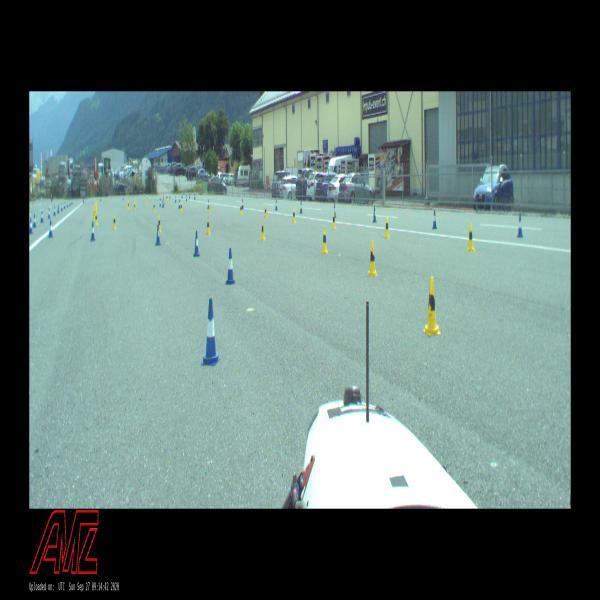blue_cone: (201, 299, 220, 366), (226, 248, 234, 284), (194, 231, 200, 256), (517, 215, 523, 236), (156, 226, 161, 244), (432, 212, 437, 228), (91, 222, 95, 240), (372, 206, 376, 222), (50, 220, 53, 237), (33, 215, 36, 226), (300, 202, 303, 213), (30, 218, 32, 233), (275, 200, 278, 210), (334, 204, 336, 217), (41, 210, 43, 222), (242, 200, 244, 209), (61, 202, 63, 210), (162, 200, 164, 208), (57, 204, 59, 212), (159, 198, 161, 206), (49, 207, 50, 218), (179, 200, 180, 209), (54, 206, 55, 215), (208, 200, 209, 209), (175, 196, 176, 202), (186, 195, 187, 201)
yellow_cone: (424, 276, 438, 337), (368, 242, 376, 276), (467, 224, 474, 250), (322, 228, 328, 253), (384, 218, 390, 238), (260, 220, 266, 240), (206, 217, 210, 234), (332, 213, 336, 229), (157, 216, 161, 231), (94, 212, 98, 224), (113, 215, 116, 228), (264, 206, 267, 217), (293, 209, 295, 222), (240, 203, 242, 214), (180, 202, 182, 212), (154, 202, 156, 211), (146, 196, 148, 204), (166, 194, 168, 201), (128, 200, 129, 209), (209, 204, 210, 212), (134, 202, 135, 210)
